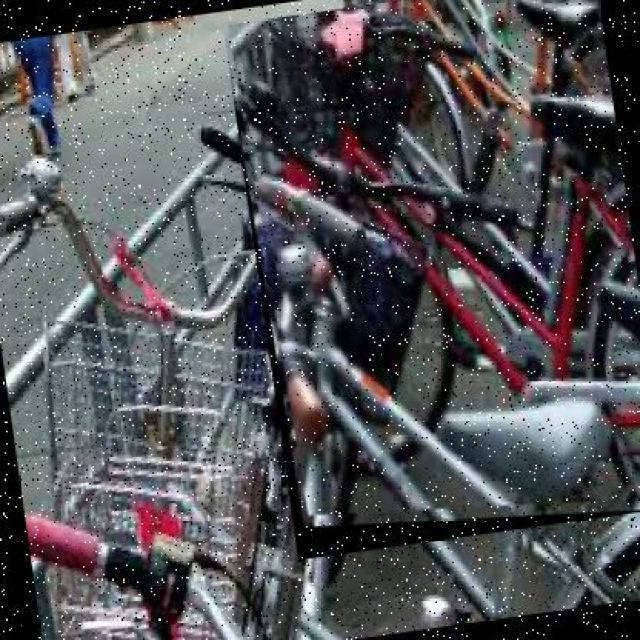bicycle: (223, 1, 640, 564)
